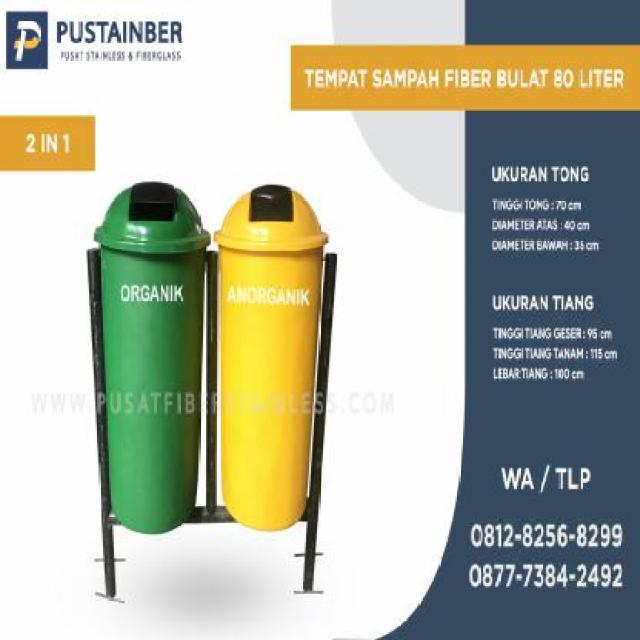garbage container: (213, 175, 345, 547), (89, 168, 214, 549)
